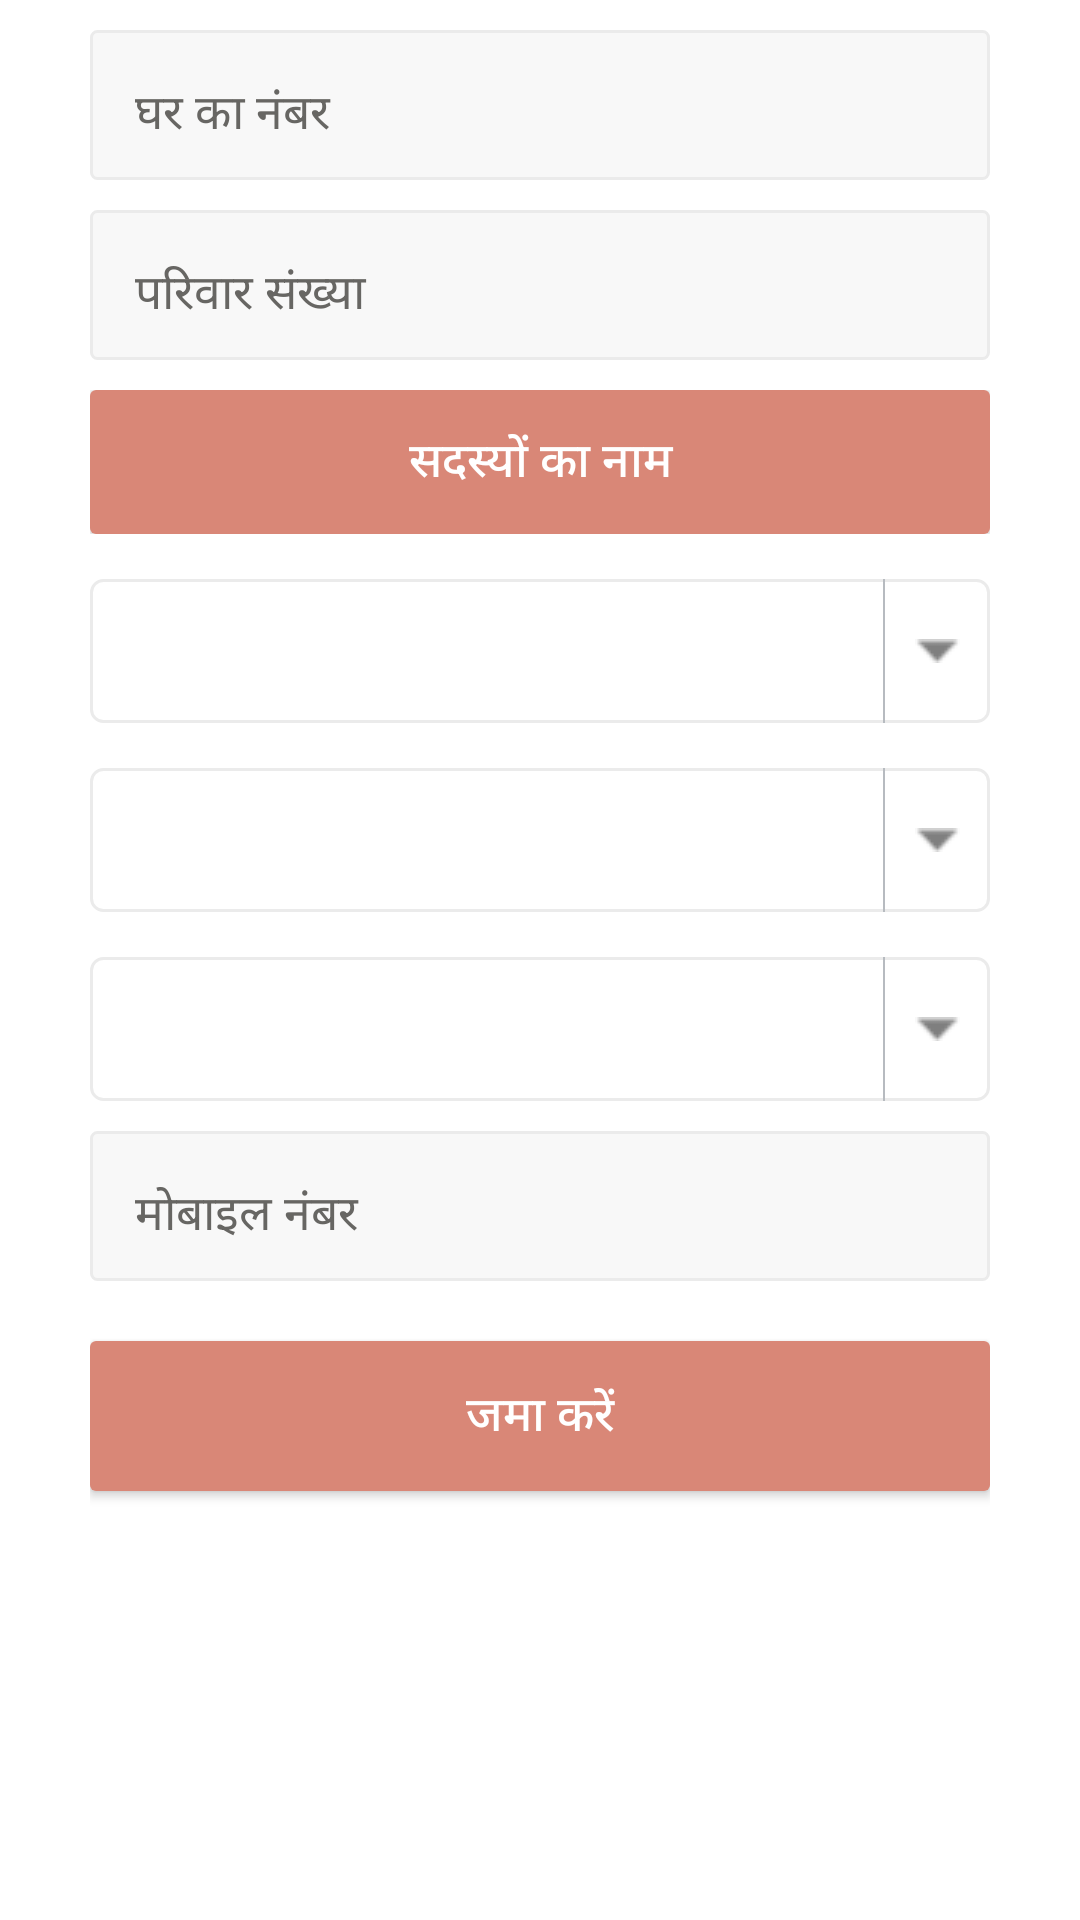

Locate icon controls on the screen. Image size 1080 x 1920, boxes as (x1, y1, x2, y2).
down arrow: (918, 639, 957, 663), (918, 828, 957, 852), (918, 1017, 957, 1041)
